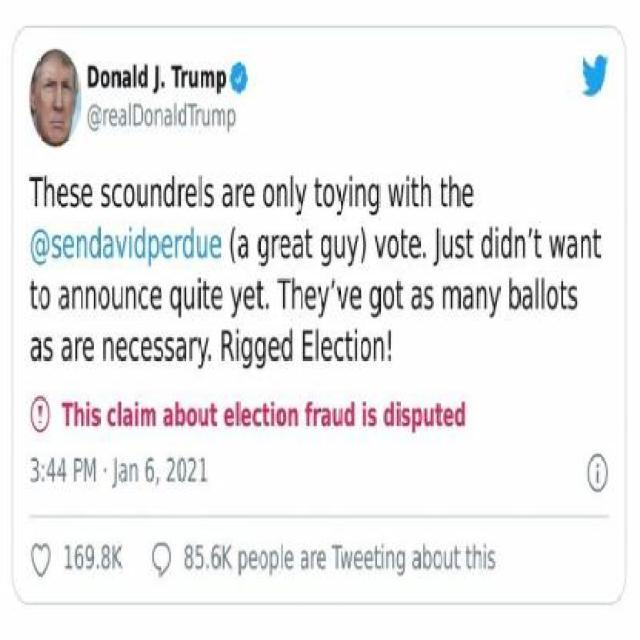0: (176, 456, 187, 484)
1: (63, 544, 74, 572), (199, 457, 207, 483)
2: (166, 456, 177, 484), (187, 456, 198, 484)
3: (32, 458, 40, 484)
4: (56, 457, 67, 483), (47, 458, 56, 484)
5: (194, 543, 206, 569)
6: (144, 455, 156, 483), (74, 544, 84, 570), (212, 544, 220, 572)
8: (100, 544, 112, 570), (184, 544, 193, 570)
9: (86, 543, 94, 571)
A: (221, 182, 234, 210), (462, 283, 475, 311), (175, 336, 188, 364), (60, 336, 74, 361), (101, 233, 114, 259), (291, 234, 304, 260), (521, 284, 534, 310), (30, 334, 42, 360), (567, 234, 578, 260), (59, 284, 70, 310), (162, 405, 175, 427), (238, 234, 248, 260), (412, 284, 422, 310), (163, 106, 174, 128), (123, 406, 134, 428), (321, 406, 332, 428), (120, 68, 132, 88), (412, 550, 422, 572), (300, 549, 309, 571), (119, 462, 128, 482), (118, 107, 126, 127)
B: (508, 278, 521, 312), (176, 401, 187, 427), (422, 542, 432, 570)
C: (128, 336, 140, 362), (112, 182, 123, 210), (138, 285, 150, 310), (334, 336, 344, 362), (107, 407, 116, 427), (253, 407, 261, 427)
D: (281, 327, 294, 361), (181, 226, 194, 260), (480, 224, 492, 260), (162, 175, 175, 208), (134, 226, 146, 260), (500, 227, 512, 260), (86, 64, 100, 90), (90, 226, 101, 259), (344, 398, 356, 428), (454, 401, 466, 427), (383, 399, 394, 427), (132, 102, 143, 126), (138, 62, 148, 88), (178, 102, 186, 126)
E: (301, 328, 314, 361), (80, 182, 94, 210), (56, 182, 70, 208), (242, 180, 255, 208), (62, 234, 76, 260), (149, 286, 163, 312), (82, 335, 95, 363), (185, 182, 198, 208), (461, 182, 474, 208), (209, 234, 222, 260), (279, 234, 292, 260), (409, 234, 422, 260), (211, 284, 224, 310), (242, 286, 255, 312), (349, 284, 362, 310), (115, 336, 128, 362), (320, 335, 332, 363), (304, 284, 316, 310), (140, 336, 152, 362), (268, 336, 280, 362), (162, 234, 172, 260), (223, 406, 234, 428), (443, 406, 454, 428), (316, 549, 327, 571), (353, 549, 364, 571), (363, 549, 374, 571), (240, 407, 252, 427), (284, 549, 294, 571), (248, 548, 257, 570), (110, 108, 118, 128)
F: (304, 400, 312, 428)
G: (256, 234, 269, 268), (369, 284, 382, 318), (240, 336, 253, 370), (319, 233, 332, 267), (368, 182, 380, 216), (254, 336, 266, 370), (396, 550, 406, 576)
H: (448, 175, 461, 208), (292, 276, 303, 310), (421, 174, 432, 206), (44, 174, 54, 208), (74, 400, 85, 428), (473, 542, 481, 570)
I: (494, 226, 500, 260), (196, 278, 202, 310), (354, 328, 358, 362), (362, 401, 367, 427), (406, 174, 409, 208), (236, 328, 239, 362), (484, 543, 487, 571), (87, 400, 90, 426), (271, 400, 274, 426), (397, 400, 400, 426), (381, 542, 384, 568), (350, 173, 352, 207), (130, 224, 132, 258), (136, 400, 138, 428)
J: (433, 227, 439, 267), (152, 64, 158, 94), (112, 456, 116, 490)
K: (112, 543, 123, 572), (222, 544, 233, 572)
L: (133, 62, 138, 88), (291, 175, 294, 208), (236, 400, 239, 426), (280, 543, 283, 569), (174, 102, 177, 126), (536, 276, 538, 309), (542, 276, 544, 309), (200, 174, 202, 206), (316, 328, 318, 360), (118, 400, 120, 426), (128, 102, 130, 126)
M: (443, 285, 462, 310), (83, 458, 97, 482), (200, 68, 216, 87), (140, 408, 156, 426), (212, 108, 226, 126)
N: (124, 284, 138, 310), (475, 285, 488, 310), (514, 234, 526, 260), (580, 233, 592, 259), (150, 182, 162, 207), (103, 336, 114, 362), (277, 183, 288, 208), (72, 285, 83, 310), (85, 285, 96, 310), (76, 234, 87, 258), (374, 336, 384, 362), (356, 183, 366, 208), (110, 69, 122, 88), (288, 407, 298, 427), (130, 462, 138, 482), (386, 550, 394, 570), (154, 108, 162, 126)
O: (122, 182, 136, 207), (262, 182, 275, 208), (98, 284, 111, 310), (359, 336, 372, 362), (322, 183, 335, 208), (382, 285, 395, 310), (546, 285, 559, 310), (386, 234, 399, 258), (39, 284, 50, 312), (186, 408, 199, 428), (100, 69, 111, 89), (276, 406, 287, 426), (258, 549, 268, 571), (144, 107, 152, 127), (434, 550, 442, 570)
P: (148, 236, 160, 266), (412, 407, 422, 435), (216, 69, 227, 94), (74, 457, 83, 483), (270, 549, 278, 577), (239, 550, 247, 576), (228, 108, 235, 132)
Q: (169, 284, 182, 320)
R: (221, 328, 234, 361), (175, 232, 183, 258), (189, 336, 197, 362), (236, 183, 244, 208), (272, 235, 280, 258), (178, 183, 185, 208), (312, 406, 320, 426), (76, 336, 82, 361), (103, 107, 109, 127), (311, 549, 317, 569), (196, 108, 202, 126), (182, 70, 188, 87)
S: (99, 180, 112, 208), (162, 336, 175, 362), (454, 234, 466, 260), (43, 335, 54, 363), (69, 182, 80, 208), (152, 336, 163, 362), (203, 183, 214, 208), (52, 233, 62, 259), (424, 284, 434, 310), (367, 406, 378, 428), (401, 406, 412, 428), (568, 285, 576, 310), (488, 549, 496, 569), (92, 408, 100, 428)
T: (29, 174, 43, 208), (277, 277, 291, 311), (61, 402, 74, 426), (331, 544, 344, 568), (170, 63, 182, 88), (29, 279, 38, 310), (187, 102, 198, 126), (314, 176, 322, 209), (304, 227, 312, 260), (400, 227, 408, 260), (345, 329, 353, 362), (440, 176, 448, 207), (256, 279, 264, 310), (396, 279, 404, 310), (559, 279, 567, 310), (466, 228, 474, 258), (593, 228, 601, 258), (202, 280, 210, 309), (534, 230, 542, 258), (412, 178, 419, 208), (262, 401, 270, 427), (210, 402, 218, 427), (436, 402, 442, 427), (374, 545, 380, 570), (454, 545, 460, 570), (466, 546, 472, 569)
U: (441, 233, 454, 259), (136, 183, 149, 208), (182, 286, 195, 309), (196, 234, 207, 260), (112, 284, 123, 310), (334, 233, 344, 259), (331, 408, 344, 428), (188, 68, 200, 88), (198, 408, 210, 428), (423, 407, 434, 427), (202, 108, 210, 126), (444, 550, 452, 568)
V: (114, 234, 128, 260), (336, 285, 349, 310), (374, 234, 386, 260)
W: (548, 233, 566, 259), (387, 183, 405, 208), (340, 550, 352, 570)
Y: (295, 183, 308, 217), (346, 234, 359, 268), (488, 286, 501, 320), (197, 337, 210, 371), (318, 284, 330, 320), (335, 182, 348, 215), (230, 286, 242, 320)
